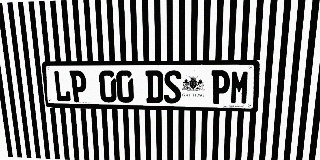0: (99, 70, 117, 103), (116, 70, 134, 103)
D: (145, 70, 163, 103)
L: (53, 70, 71, 102)
M: (230, 70, 250, 105)
P: (211, 70, 230, 104), (69, 70, 88, 102)
S: (164, 70, 181, 103)
